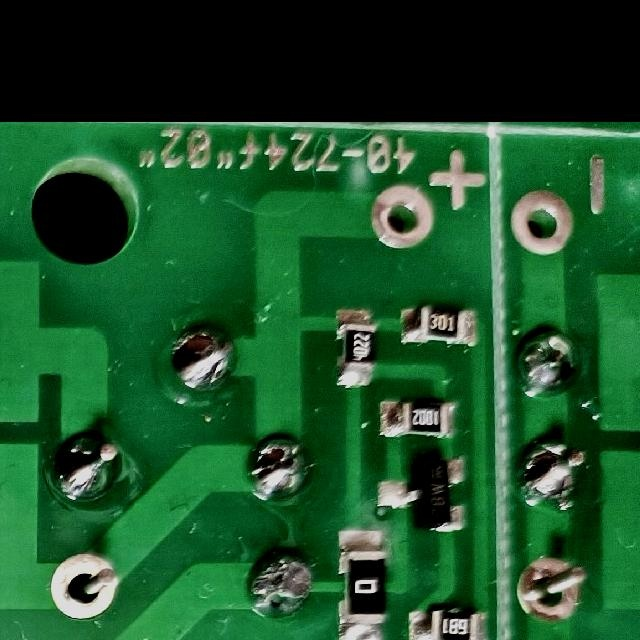chip-resistor: (333, 529, 387, 640), (398, 304, 478, 351), (333, 307, 376, 391), (376, 397, 459, 440), (404, 606, 491, 640)
transistor: (375, 454, 470, 538)
